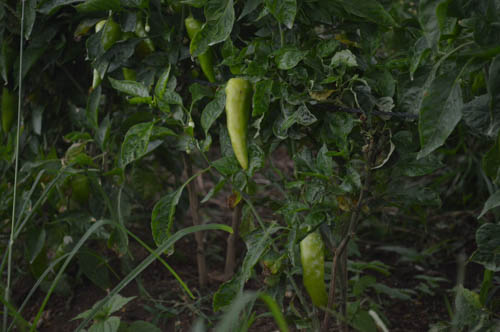ChiliPepper: (224, 76, 250, 168), (298, 235, 327, 306), (184, 21, 214, 82)
